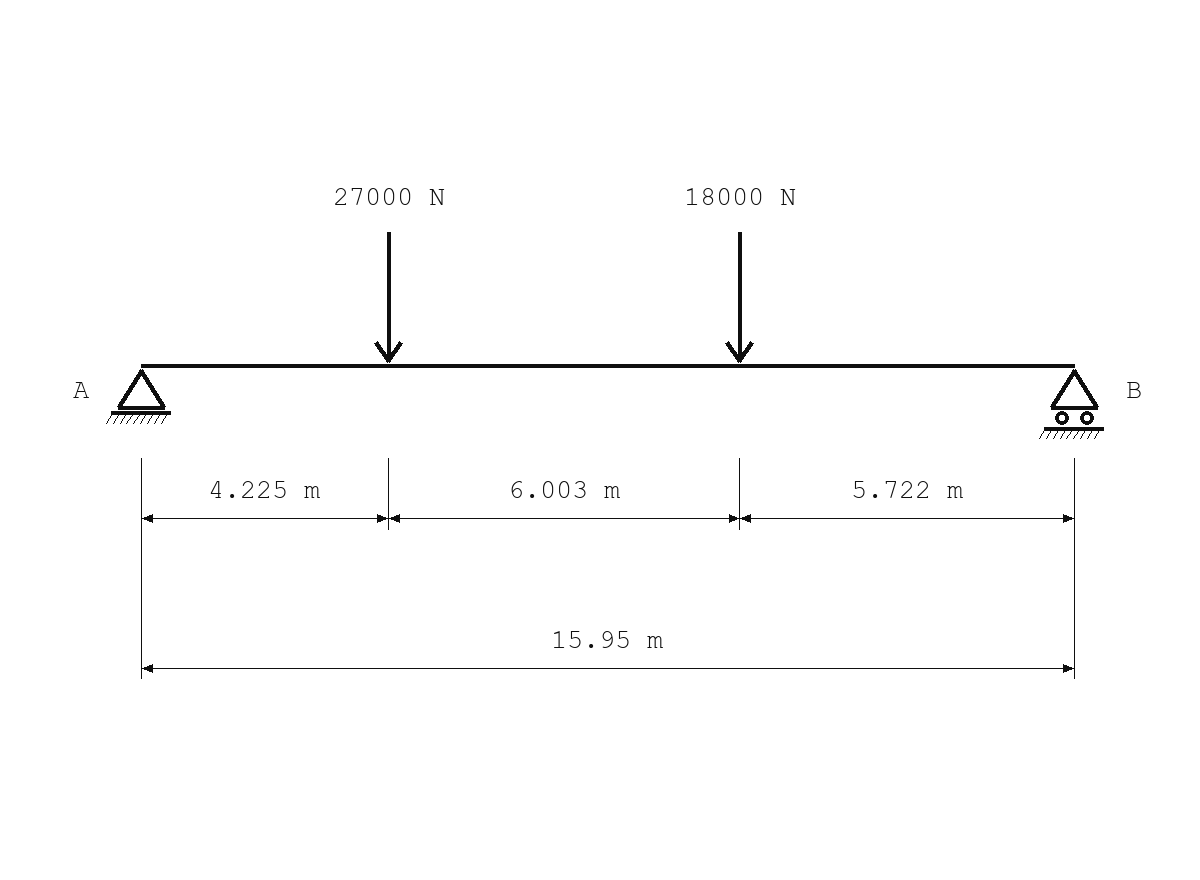pin_support: (106, 369, 171, 424)
point_load: (374, 232, 403, 363), (725, 232, 754, 363)
roller_support: (1039, 369, 1104, 439)
